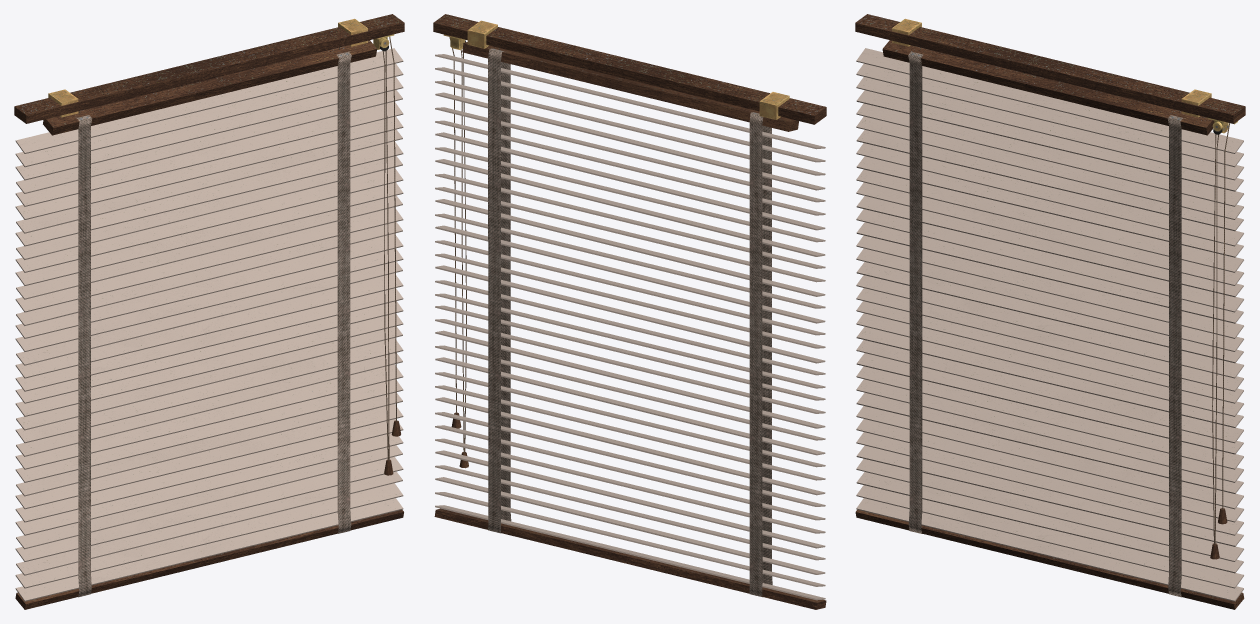
The model's file is Jalousie_A.fbx.
3 renders of one model, left to right at view 1: azimuth 30°, elevation 25°; view 2: azimuth 150°, elevation 25°; view 3: azimuth 330°, elevation 25°, orthographic.
Visible parts, largest first — view 1: Jalousie_A; view 2: Jalousie_A; view 3: Jalousie_A.
Part boxes in pixels (x1,y1,x2,y2): Jalousie_A: (14, 14, 404, 609); Jalousie_A: (433, 14, 826, 609); Jalousie_A: (855, 14, 1245, 609).
Size of the model in its own units: 90.03 by 113 by 7.27.
